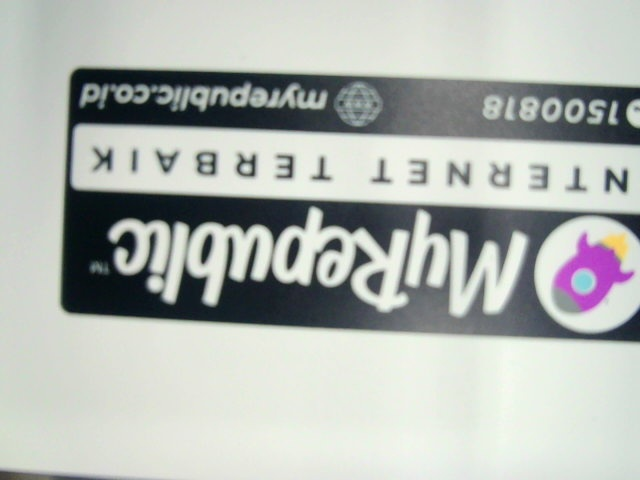BD_MyRepublic: (54, 65, 639, 345)
